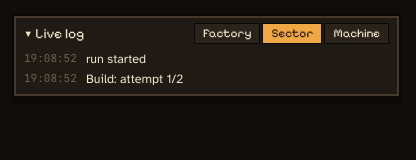
The live log › switches to the factory level, which names the sector of each line
Click the button "Factory". click: (227, 34)
box: left=194, top=23, right=260, bottom=44
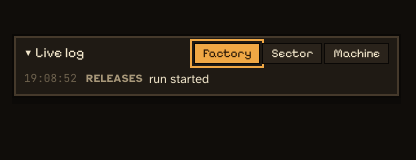
Expected: the text "run started" is shown, left=149, top=70, right=209, bottom=86
Result: the text "Releases" is shown at left=86, top=70, right=143, bottom=88
